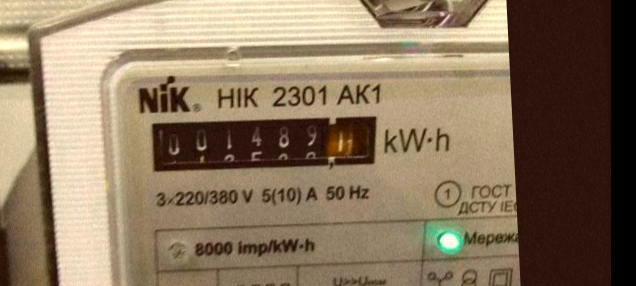0: (191, 125, 208, 151), (164, 131, 180, 156)
1: (220, 123, 235, 152), (332, 123, 346, 154)
4: (247, 122, 264, 149)
8: (273, 121, 291, 149)
9: (302, 122, 318, 147)
screen: (134, 100, 394, 189)
